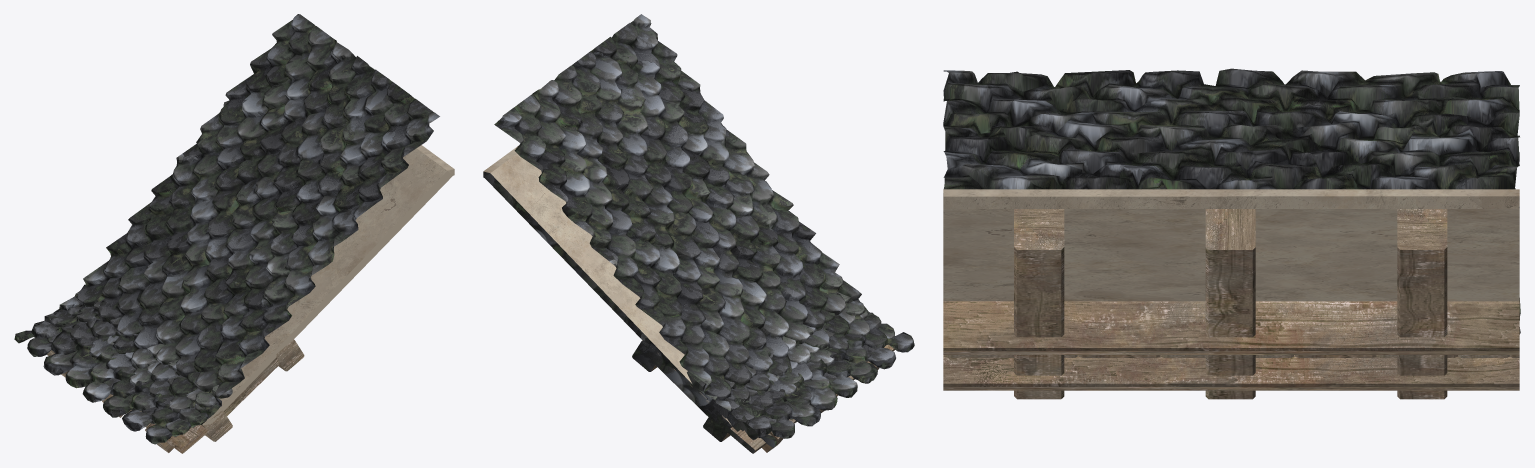
File: SM_Roof_A_08.fbx
3 renders of one model, left to right at view 1: azimuth 30°, elevation 25°; view 2: azimuth 150°, elevation 25°; view 3: azimuth 270°, elevation 25°, orthographic. The views are drawn at different scales.
Parts seen in each view (by area): view 1: SM_Roof_A_08_LOD0; view 2: SM_Roof_A_08_LOD0; view 3: SM_Roof_A_08_LOD0.
Boxes of the visible parts, x1,y1,x2,y2 form: SM_Roof_A_08_LOD0: [14, 14, 454, 453]; SM_Roof_A_08_LOD0: [483, 14, 914, 453]; SM_Roof_A_08_LOD0: [943, 68, 1520, 399].
Bounding box in the file's own units: 371 × 302 × 331.
